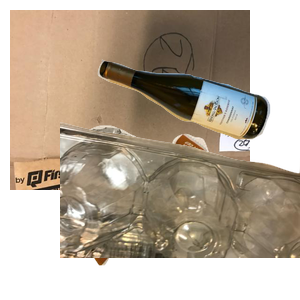cardboard: (10, 10, 250, 190)
glass: (95, 57, 300, 189)
plastic: (60, 120, 300, 300)
trash: (61, 123, 273, 300)
